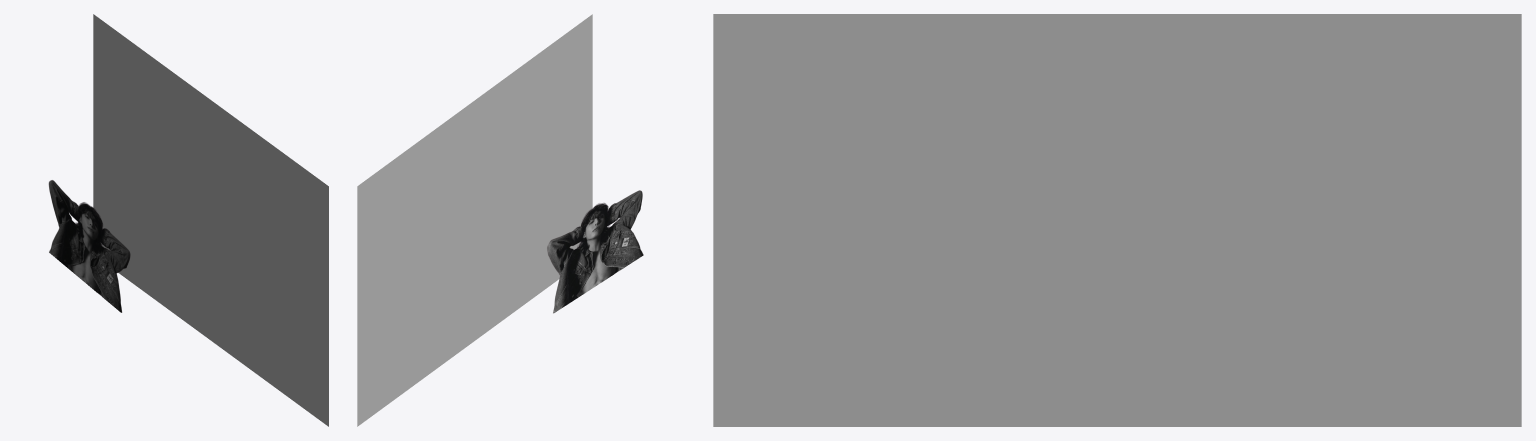
File: billboard_3d.glb
3 views of the same model, side by side, from view 1: azimuth 30°, elevation 25°; view 2: azimuth 150°, elevation 25°; view 3: azimuth 270°, elevation 25° (orthographic). The views are drawn at different scales.
Parts seen in each view (by area): view 1: vid_plane, 3d_plane; view 2: vid_plane, 3d_plane; view 3: vid_plane.
Boxes of the visible parts, x1,y1,x2,y2 form: vid_plane: (93, 14, 328, 426); 3d_plane: (48, 180, 130, 312); vid_plane: (357, 14, 592, 426); 3d_plane: (547, 190, 643, 313); vid_plane: (713, 14, 1521, 426).
Bounding box in the file's own units: 1.95 × 3.36 × 5.96.
2 materials, 1 textured.
